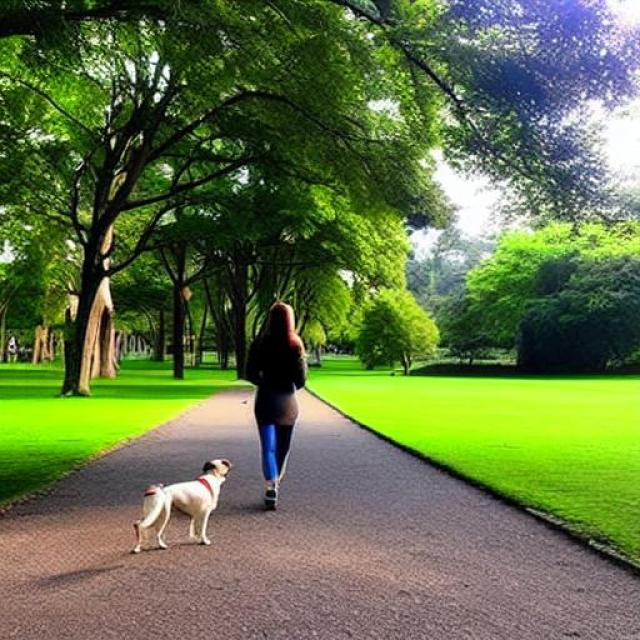Unleashed_Dog: (131, 393, 294, 555)
